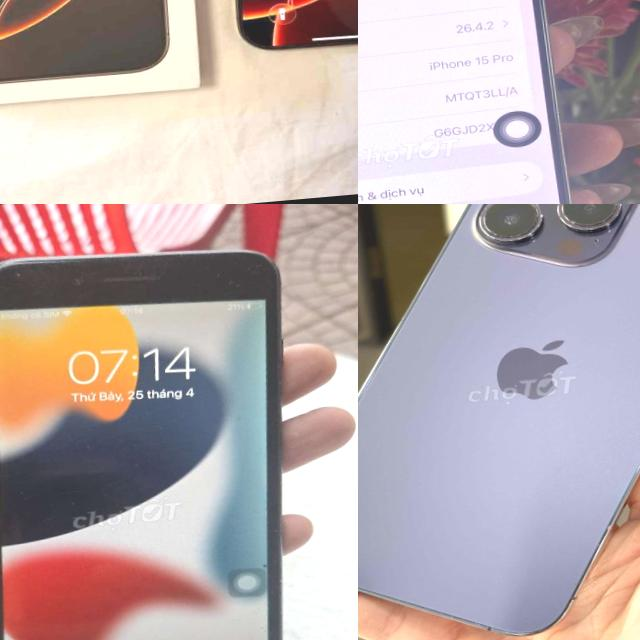gen_14: (358, 204, 640, 640)
gen_15: (358, 0, 608, 204)
gen_7_8: (0, 219, 318, 640)
scratch: (186, 252, 272, 300), (32, 248, 86, 267), (4, 260, 26, 280)
